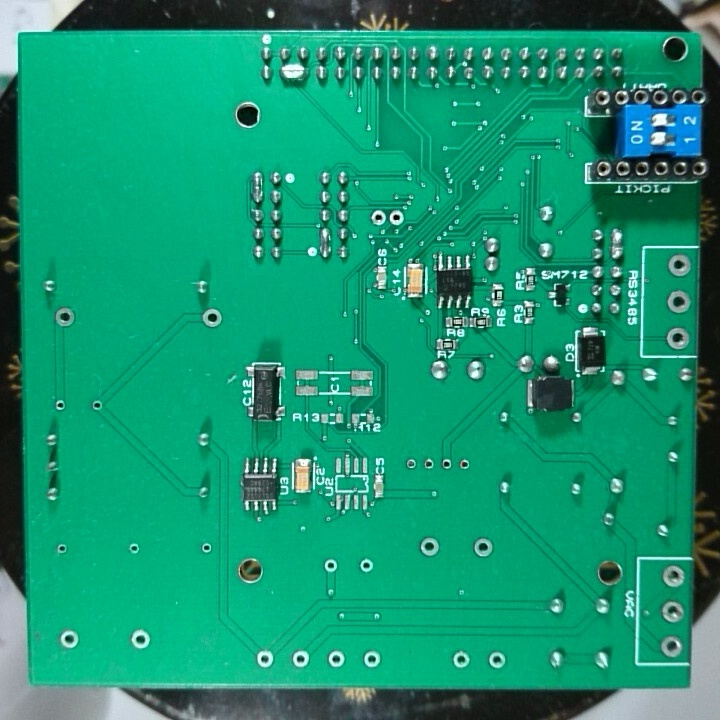F: (665, 323, 693, 353), (666, 288, 694, 317), (657, 632, 685, 659), (661, 563, 687, 592), (665, 252, 692, 279), (659, 598, 686, 624), (127, 627, 154, 653), (201, 304, 224, 332), (53, 305, 77, 331), (415, 535, 442, 558), (57, 627, 82, 651), (472, 535, 495, 561), (485, 649, 508, 672), (254, 646, 277, 669), (450, 648, 472, 672), (361, 647, 382, 672), (325, 648, 347, 670), (385, 209, 407, 231), (289, 647, 310, 669), (369, 206, 388, 229), (357, 555, 377, 575), (437, 455, 455, 475), (454, 455, 474, 473), (197, 538, 214, 558), (421, 455, 437, 475), (322, 557, 339, 575), (52, 395, 68, 414), (88, 397, 104, 415), (402, 456, 420, 472), (54, 541, 70, 558), (127, 539, 142, 556)
P: (278, 61, 310, 85), (608, 225, 628, 263), (317, 225, 334, 262), (249, 169, 266, 205)
